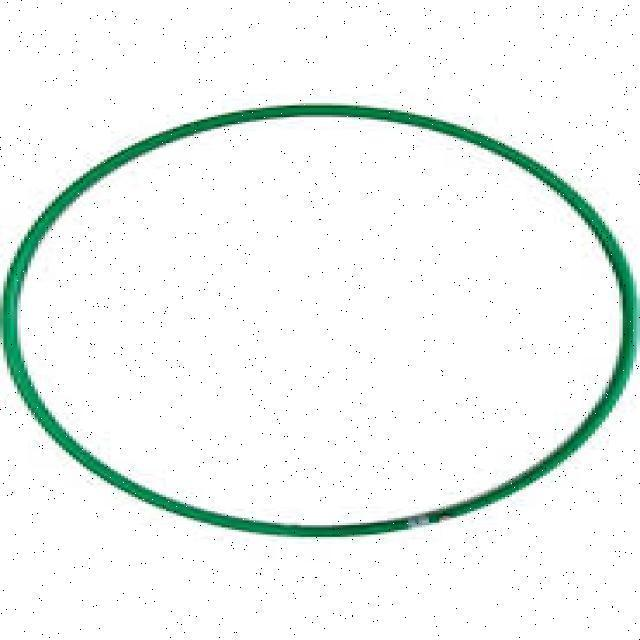Circle: (1, 97, 636, 540)
